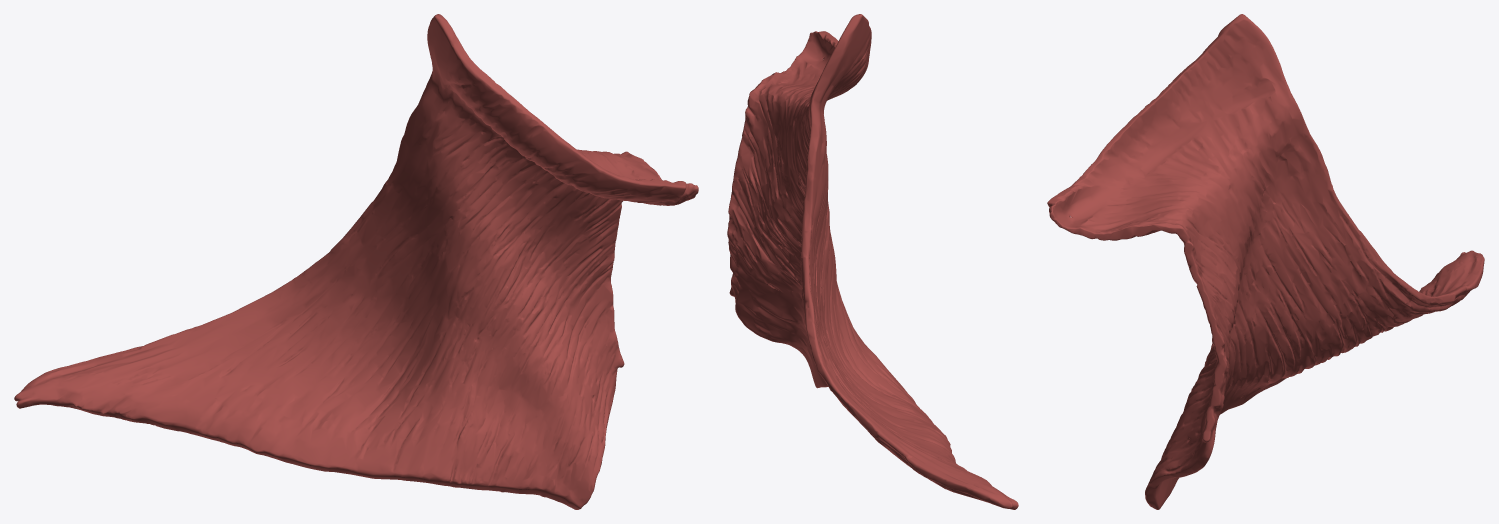
The model's file is FMA45739.glb.
The picture shows the model from 3 angles, left to right: view 1: azimuth 30°, elevation 25°; view 2: azimuth 150°, elevation 25°; view 3: azimuth 270°, elevation 25°; orthographic projection. The views are drawn at different scales.
Visible parts, largest first — view 1: FMA45739; view 2: FMA45739; view 3: FMA45739.
Part boxes in pixels (bbox=[...]): FMA45739: bbox=[14, 14, 698, 509]; FMA45739: bbox=[727, 14, 1018, 509]; FMA45739: bbox=[1047, 14, 1484, 509].
Size of the model in its own units: 0.1394 by 0.1376 by 0.1205.
